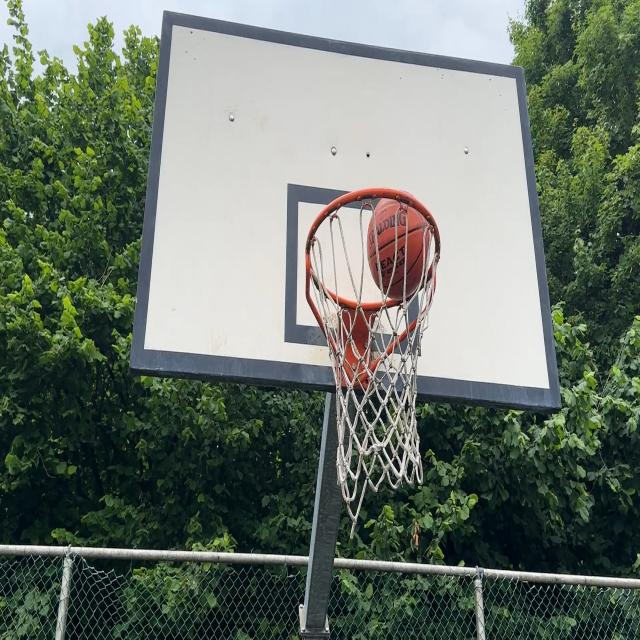rebound_hit: (362, 189, 437, 300)
